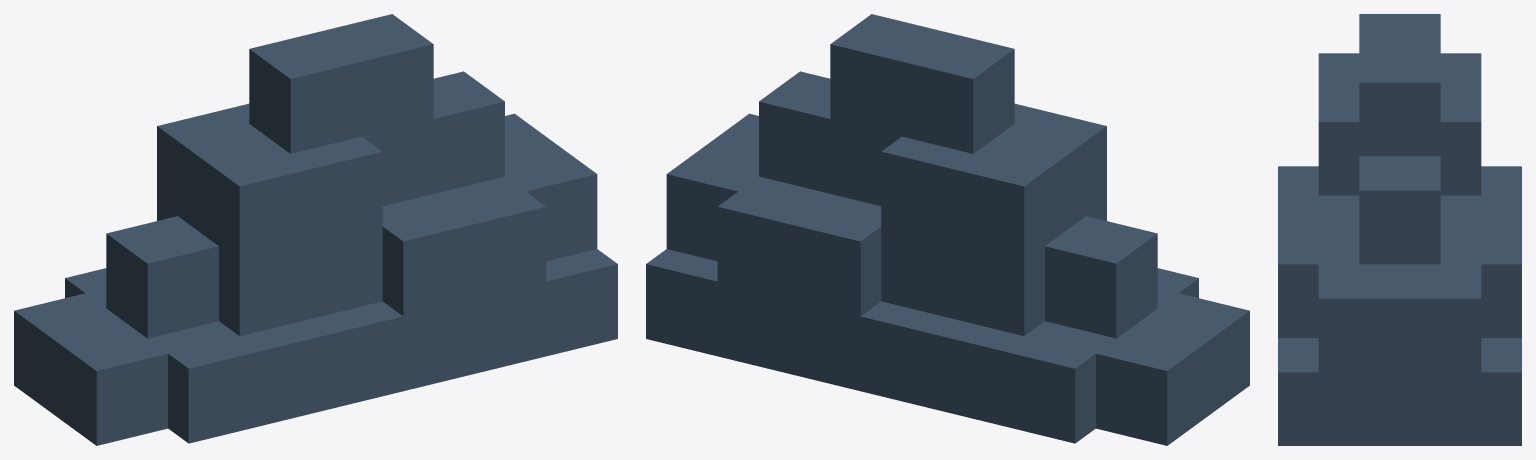
Rendered from stone-02.obj.
The picture shows the model from 3 angles, left to right: view 1: azimuth 30°, elevation 25°; view 2: azimuth 150°, elevation 25°; view 3: azimuth 270°, elevation 25°; orthographic projection.
Bounding box in the file's own units: 7 × 4 × 3.
1 material, 1 textured.
